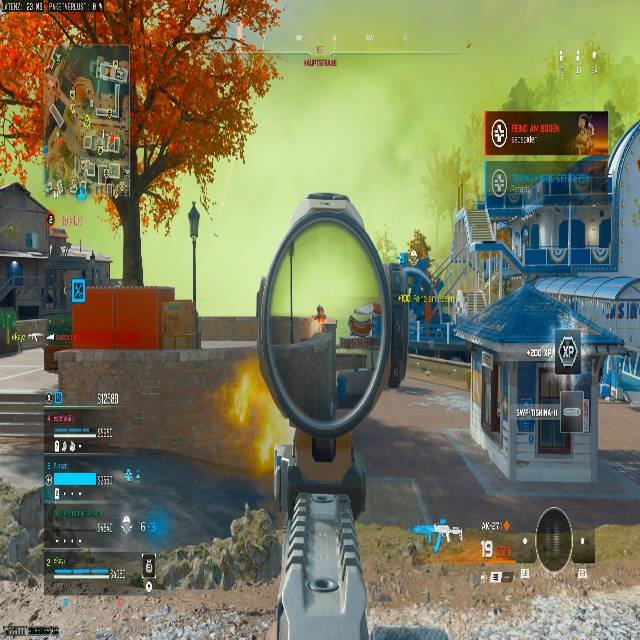player: (398, 231, 437, 306), (312, 305, 327, 334)
